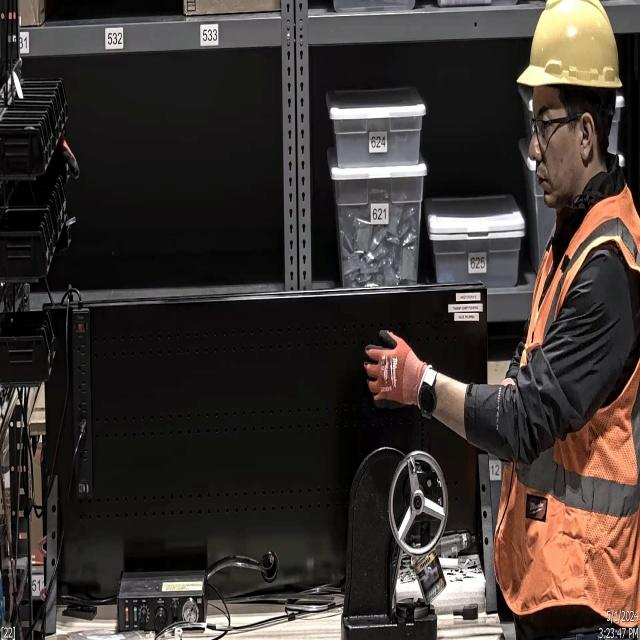construction-gloves: (364, 327, 424, 412)
